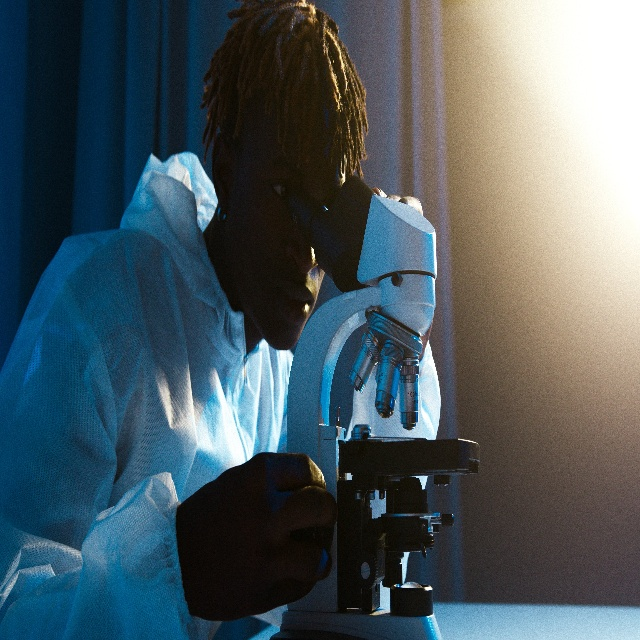Sin_guantes: (181, 451, 338, 620)
